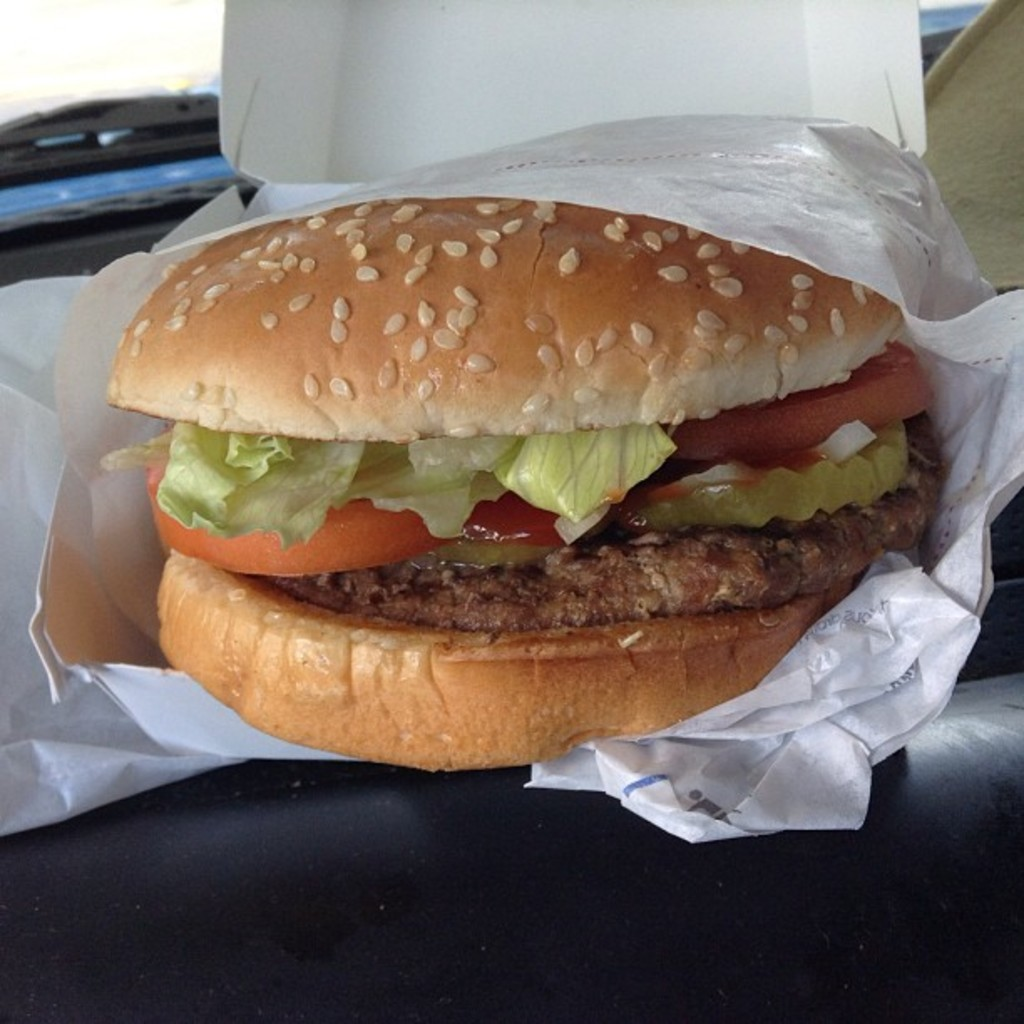Hamburger: (100, 197, 936, 776)
